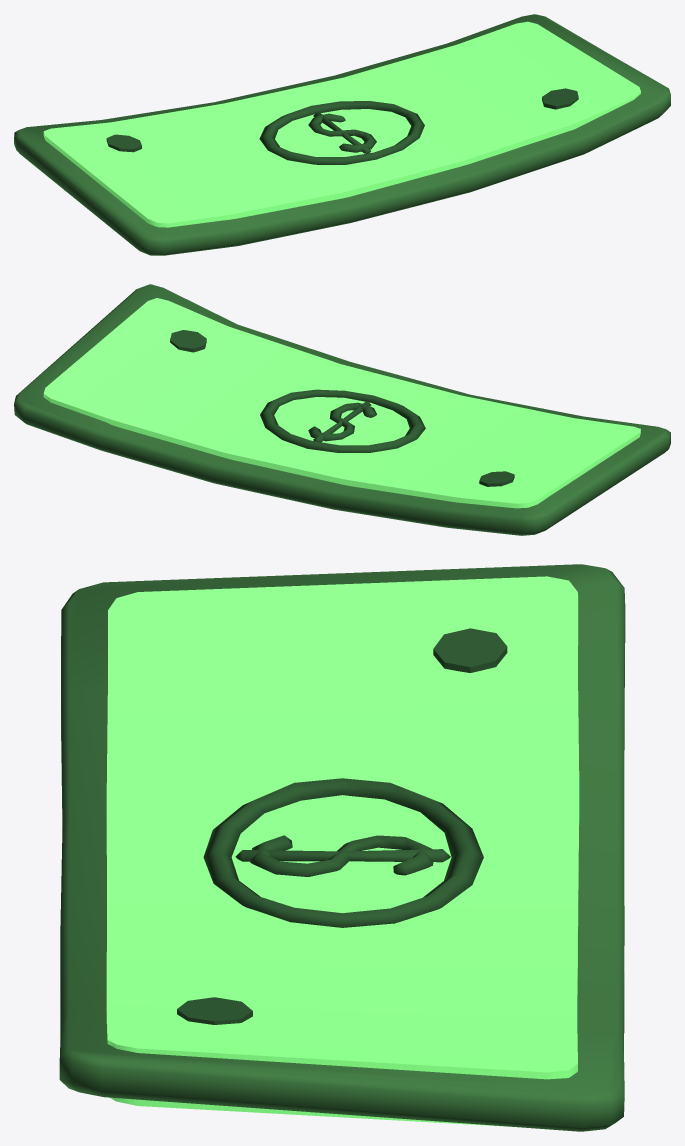
File: cash_bill.glb
3 renders of one model, top to bottom at view 1: azimuth 30°, elevation 25°; view 2: azimuth 150°, elevation 25°; view 3: azimuth 270°, elevation 25°, orthographic. The views are drawn at different scales.
Visible parts, largest first — view 1: CashBill; view 2: CashBill; view 3: CashBill.
Part boxes in pixels (<box>): CashBill: <box>14,14,670,255</box>; CashBill: <box>14,284,670,535</box>; CashBill: <box>59,564,625,1131</box>.
Size of the model in its own units: 0.2403 by 0.0249 by 0.1106.
